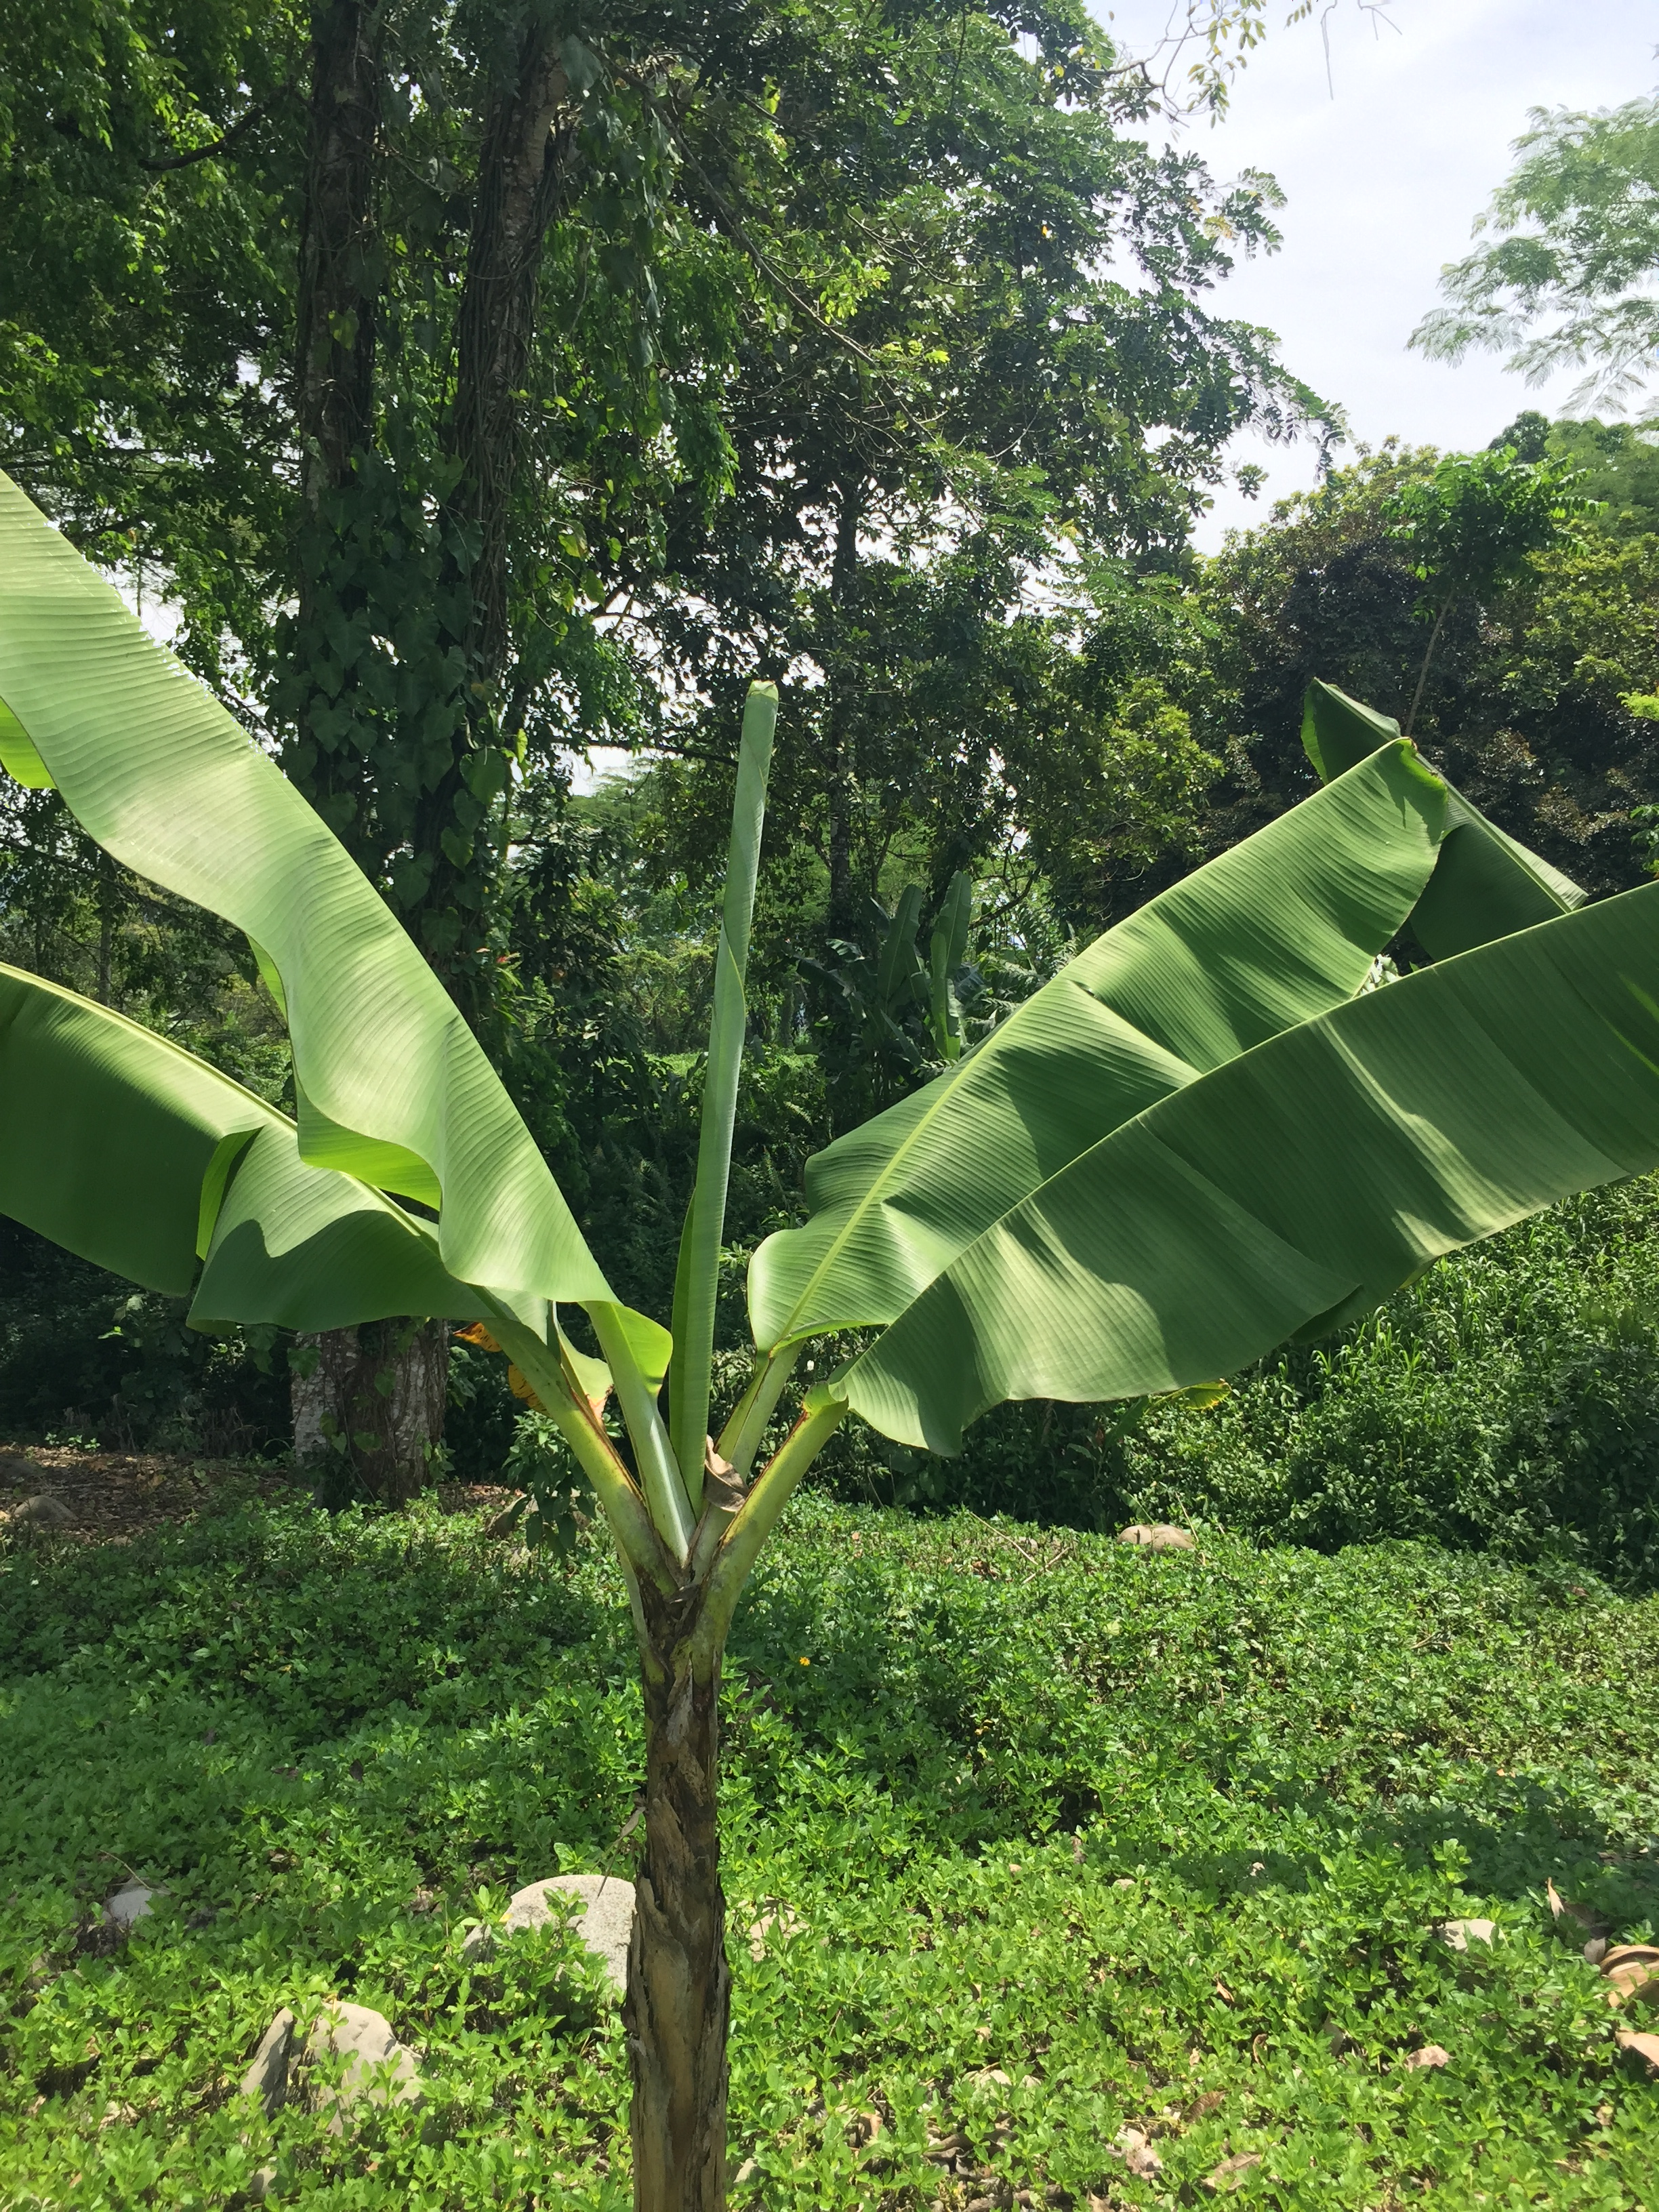candleleafs: (662, 681, 781, 1521)
